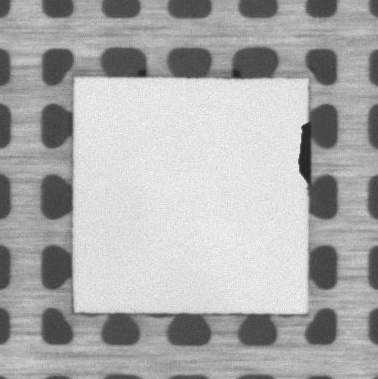DIE_BROKEN: (295, 119, 313, 183)
